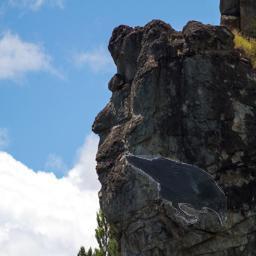Crow: (124, 155, 227, 226)
